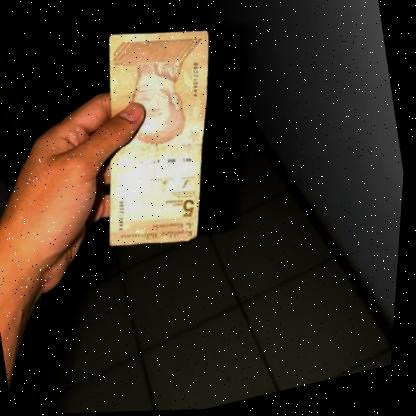five-front-vef: (69, 13, 252, 261)
